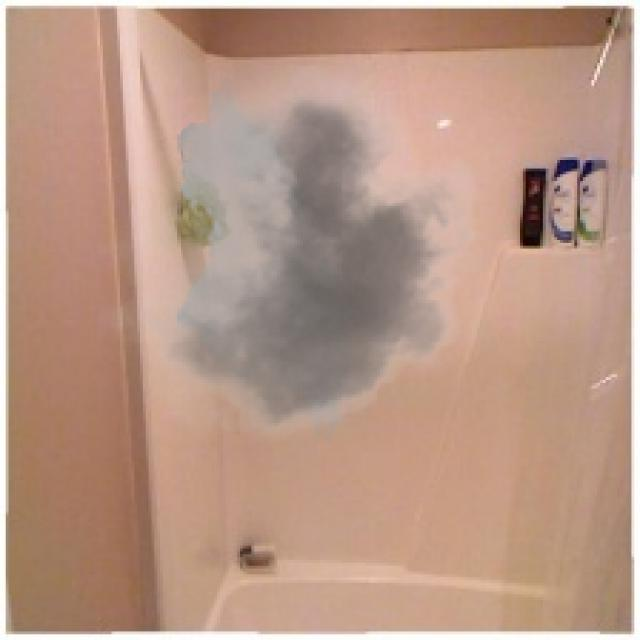Smoke: (94, 62, 497, 458)
